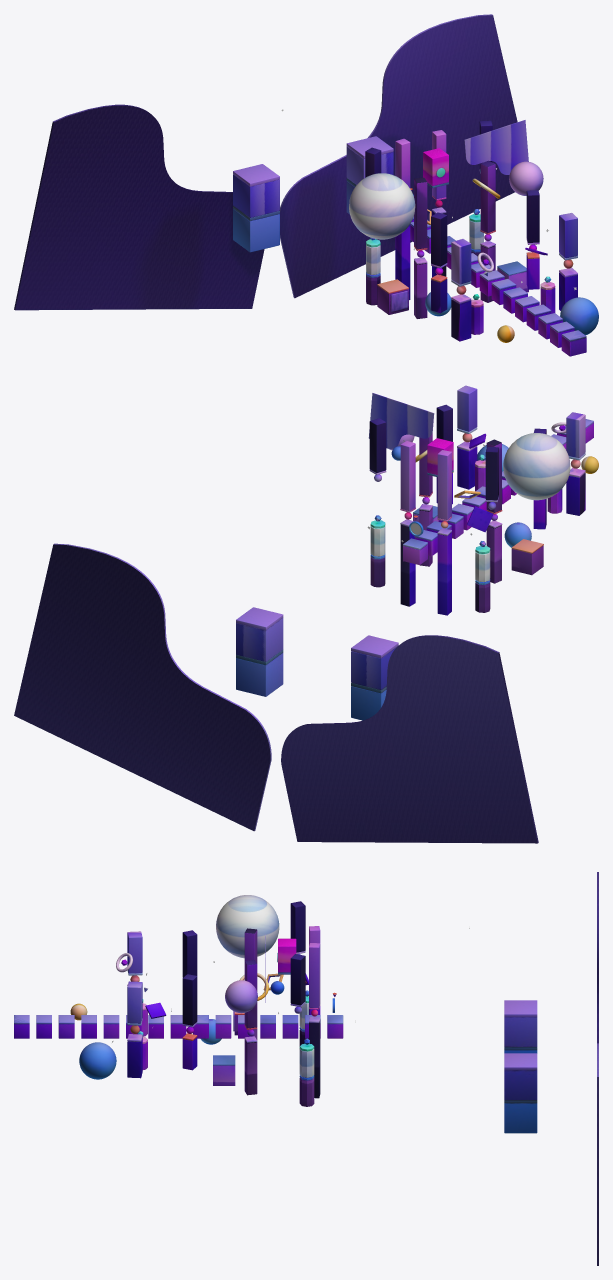
Rendered from space.gltf.
The picture shows the model from 3 angles, top to bottom: view 1: azimuth 30°, elevation 25°; view 2: azimuth 150°, elevation 25°; view 3: azimuth 270°, elevation 25°; orthographic projection. The views are drawn at different scales.
Parts seen in each view (by area): view 1: SPACE_bg_arrière, FULL_SCENE, SPACE_planete_5, SPACE_cube_gauche, SPACE_planete_4, SPACE_cube_droite; view 2: SPACE_bg_arrière, FULL_SCENE, SPACE_planete_5, SPACE_cube_gauche; view 3: FULL_SCENE, SPACE_planete_5, SPACE_planete_4, SPACE_bg_arrière, SPACE_cube_droite.
Boxes of the visible parts, x1,y1,x2,y2 form: SPACE_bg_arrière: (14, 14, 517, 310); FULL_SCENE: (233, 120, 598, 356); SPACE_planete_5: (349, 173, 415, 239); SPACE_cube_gauche: (377, 279, 408, 314); SPACE_planete_4: (509, 161, 543, 195); SPACE_cube_droite: (497, 261, 528, 292); SPACE_bg_arrière: (14, 543, 538, 843); FULL_SCENE: (236, 385, 598, 720); SPACE_planete_5: (503, 433, 570, 500); SPACE_cube_gauche: (511, 539, 543, 575); FULL_SCENE: (14, 901, 537, 1133); SPACE_planete_5: (216, 895, 279, 958); SPACE_planete_4: (225, 980, 257, 1013); SPACE_bg_arrière: (597, 872, 598, 1265); SPACE_cube_droite: (213, 1055, 235, 1085).
Bounding box in the file's own units: 5099 × 2747 × 5226.
1 material, 1 textured.
